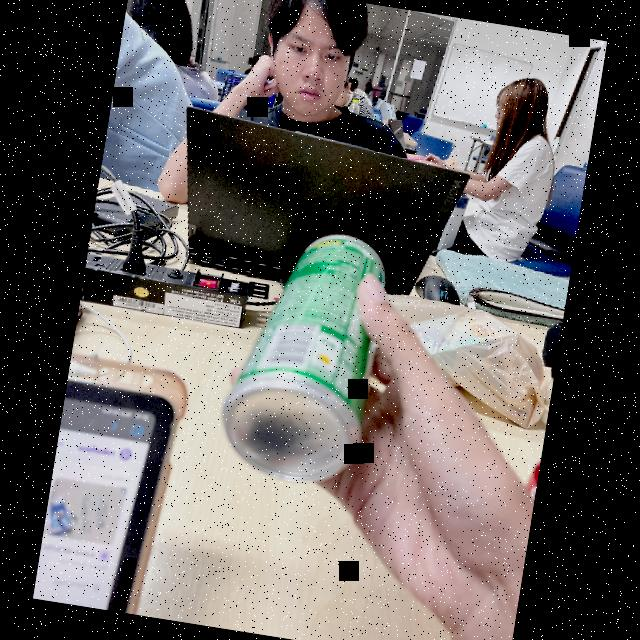can: (212, 220, 395, 502)
